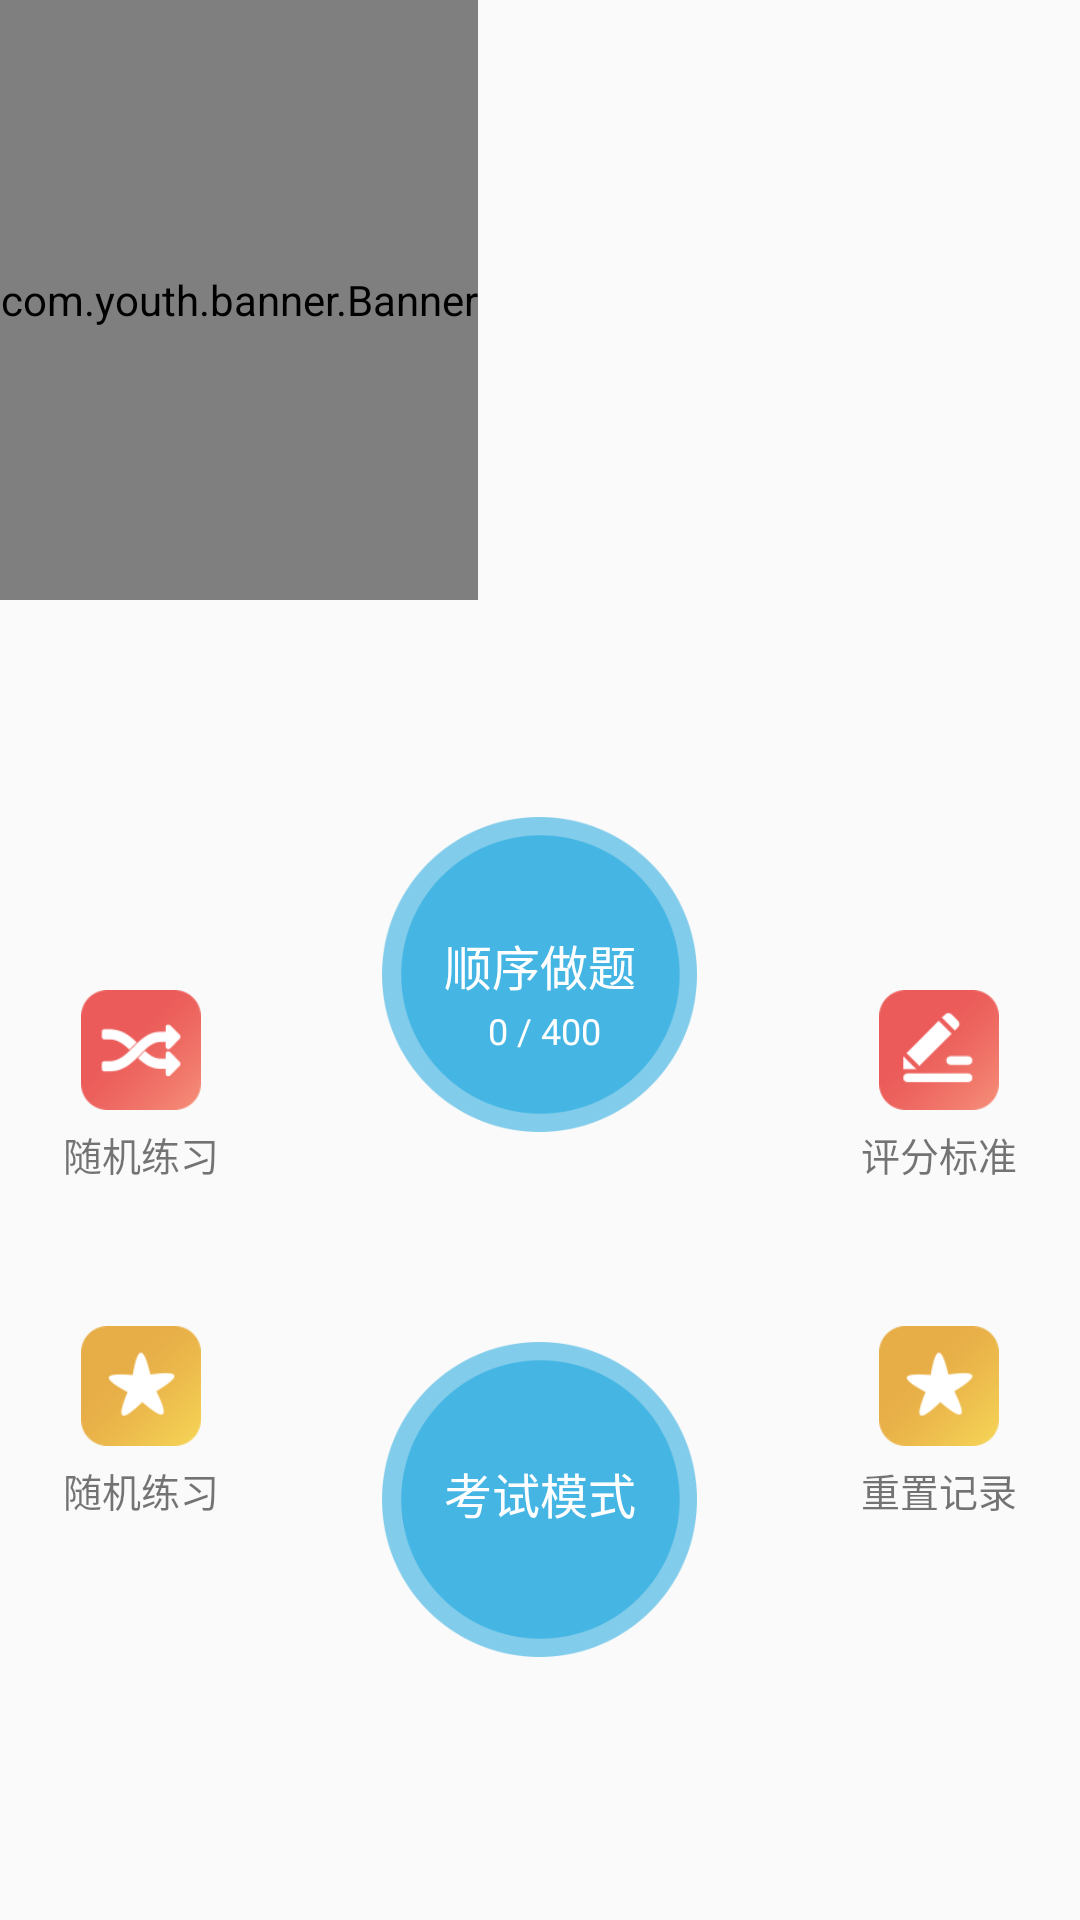

Point at icon controls on the screen. Image size 1080 × 1920, points as (x=x, y=y).
index love: (x=141, y=1386), (x=939, y=1386)
